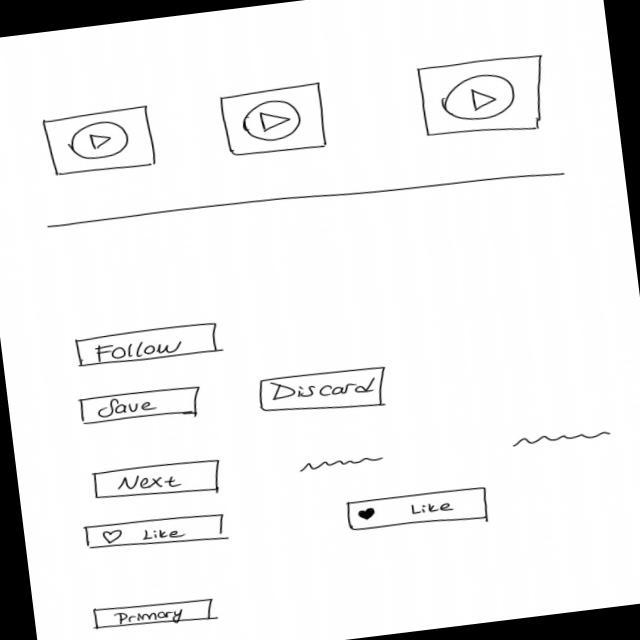button: (343, 484, 493, 539), (256, 363, 394, 422), (74, 321, 222, 371), (83, 508, 228, 558), (91, 456, 226, 506), (78, 383, 205, 430), (93, 594, 218, 635)
text: (509, 424, 618, 452), (298, 452, 387, 475)
